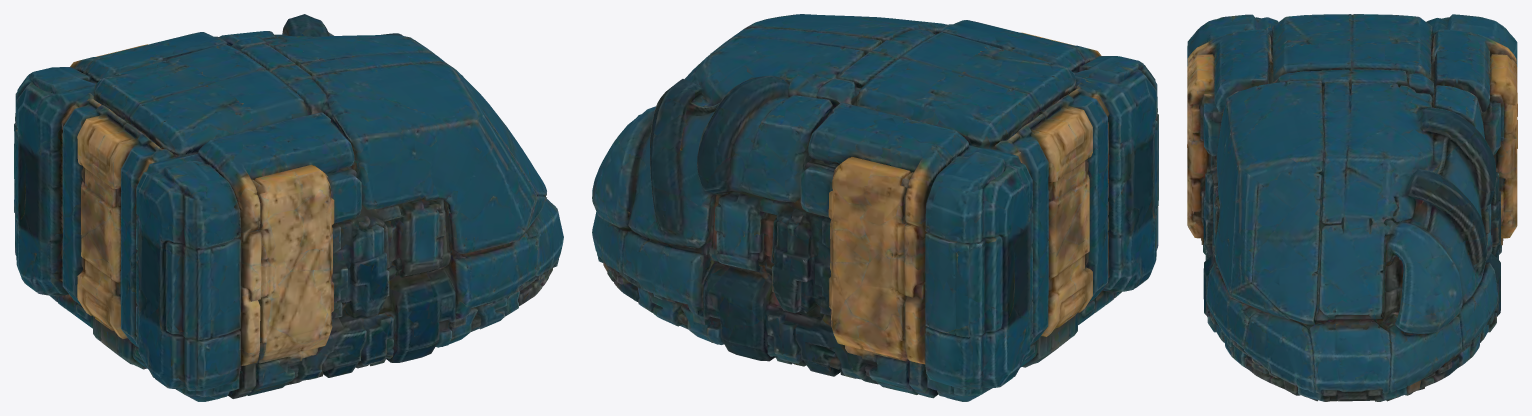
Rendered from arc-palisade-lean.glb.
3 views of the same model, side by side, from view 1: azimuth 30°, elevation 25°; view 2: azimuth 150°, elevation 25°; view 3: azimuth 270°, elevation 25° (orthographic). The views are drawn at different scales.
Parts seen in each view (by area): view 1: chassis; view 2: chassis; view 3: chassis.
Part boxes in pixels (bbox=[...]): chassis: bbox=[14, 14, 563, 401]; chassis: bbox=[592, 14, 1158, 401]; chassis: bbox=[1187, 14, 1517, 401].
Bounding box in the file's own units: 0.9898 × 0.537 × 0.6948.
Materials: 1 (1 with a texture image).
